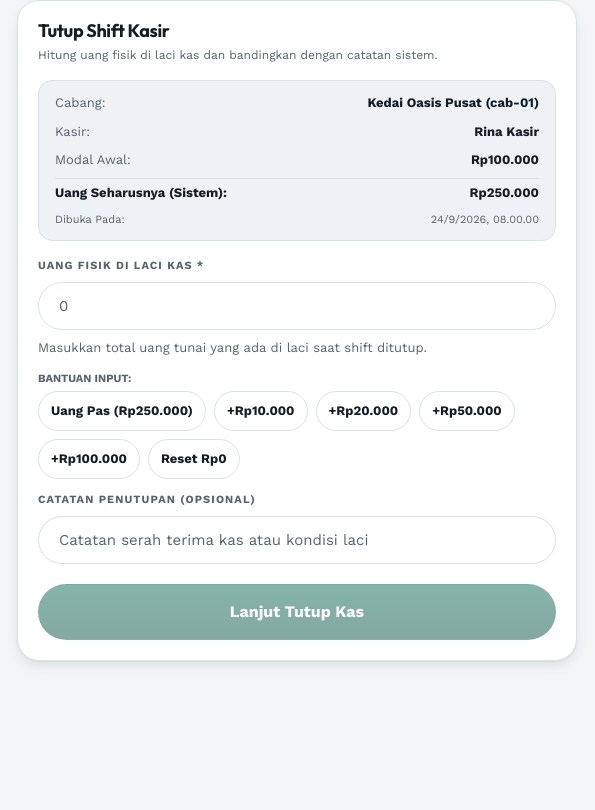
Test: Komponen TutupKas (T7-02) › alasan cepat mengisi isian alasan selisih dan mengizinkan konfirmasi
Type "260000" into the number field labelled "Uang Fisik di Laci Kas *" at (297, 306), box [38, 282, 556, 330]
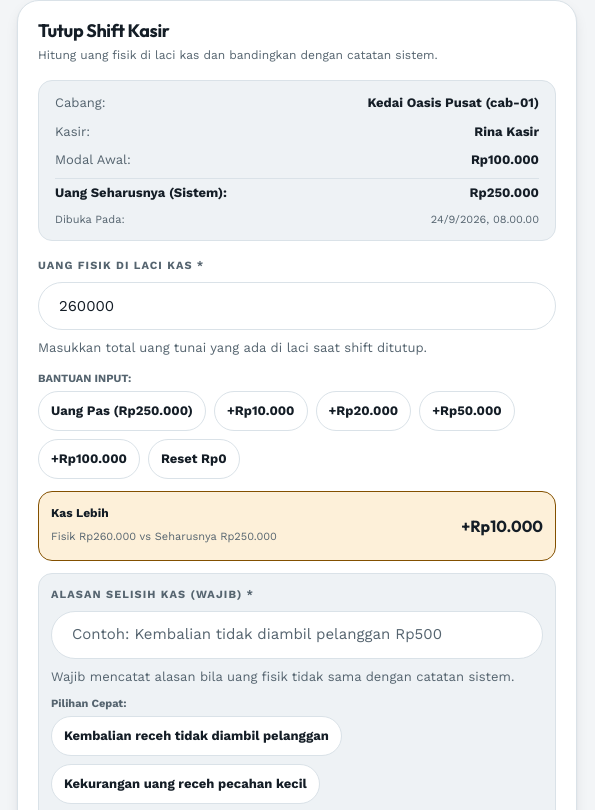
Click the button "Kembalian receh tidak diambil pelanggan" at (196, 736), box [51, 716, 342, 756]
(page scrolled)
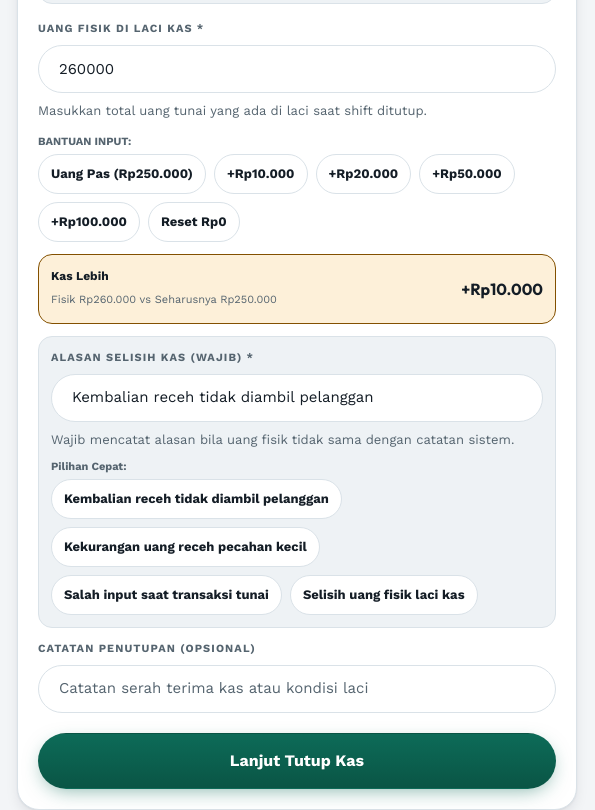
Check: the field labelled "Alasan Selisih Kas (Wajib) *" holds "Kembalian receh tidak diambil pelanggan", box [51, 374, 543, 422]
Click the button "Lanjut Tutup Kas" at (297, 761), box [38, 733, 556, 789]
(page scrolled)
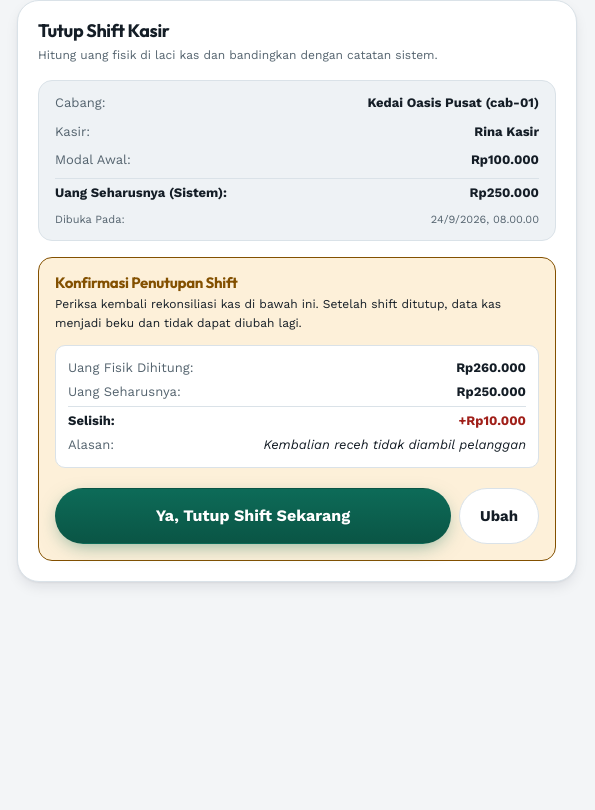
Check: the heading "Konfirmasi Penutupan Shift" is shown, box [55, 273, 237, 292]
